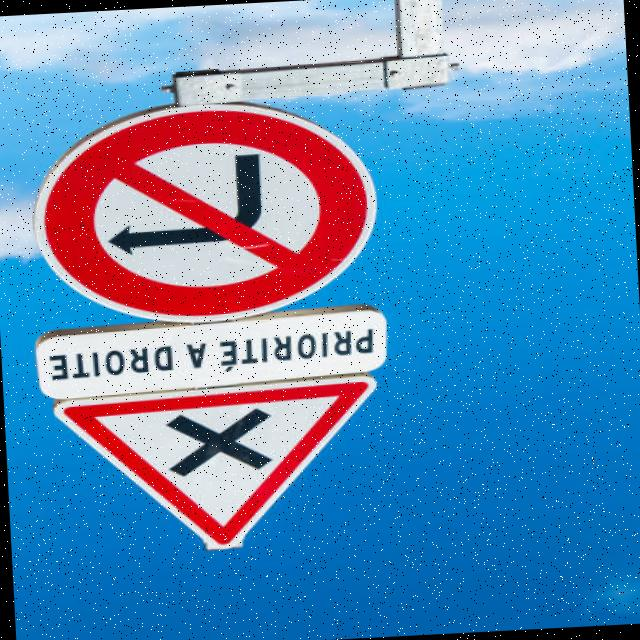do_not_turn_right: (14, 92, 384, 332)
